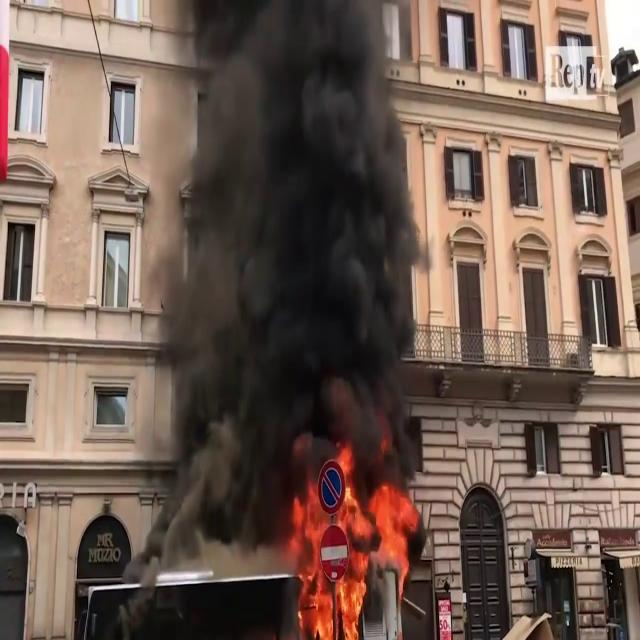Fire: (282, 454, 416, 638)
Smoke: (132, 1, 434, 514)
